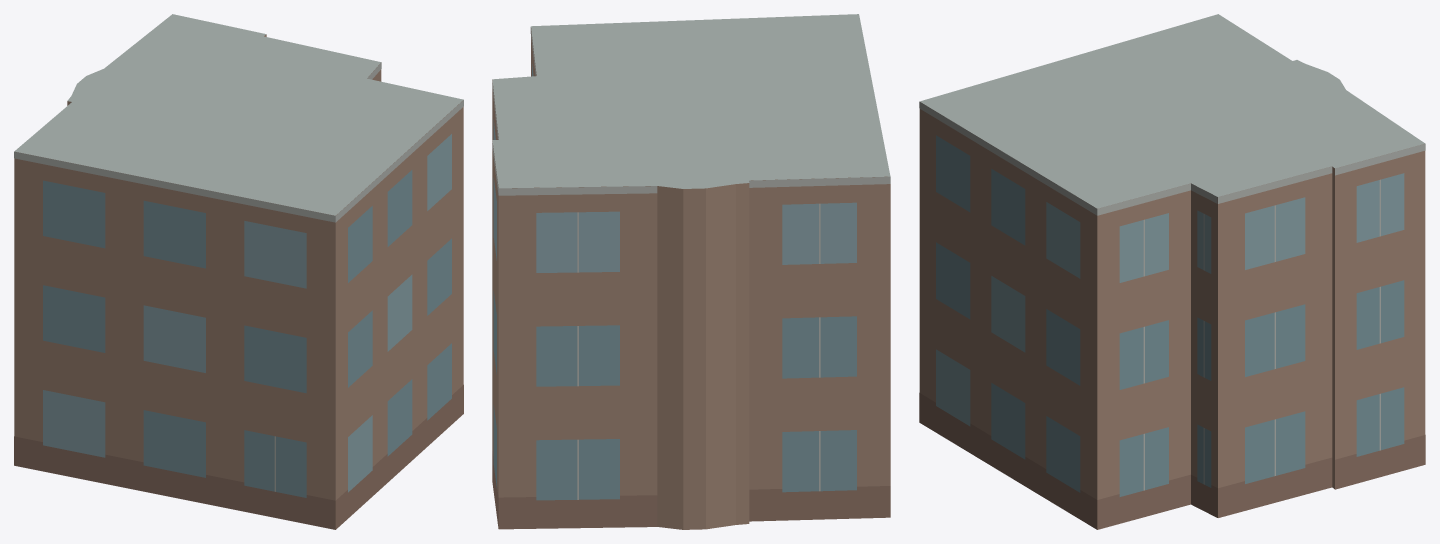
File: survey-upis-32998346.glb
3 renders of one model, left to right at view 1: azimuth 30°, elevation 25°; view 2: azimuth 150°, elevation 25°; view 3: azimuth 270°, elevation 25°, orthographic. The views are drawn at different scales.
Parts seen in each view (by area): view 1: survey-upis-32998346.tmp; view 2: survey-upis-32998346.tmp; view 3: survey-upis-32998346.tmp.
Part boxes in pixels (x1=…): survey-upis-32998346.tmp: x1=14, y1=14, x2=463, y2=529; survey-upis-32998346.tmp: x1=492, y1=14, x2=890, y2=529; survey-upis-32998346.tmp: x1=919, y1=14, x2=1425, y2=529.
Bounding box in the file's own units: 14.58 × 11.2 × 16.01.
